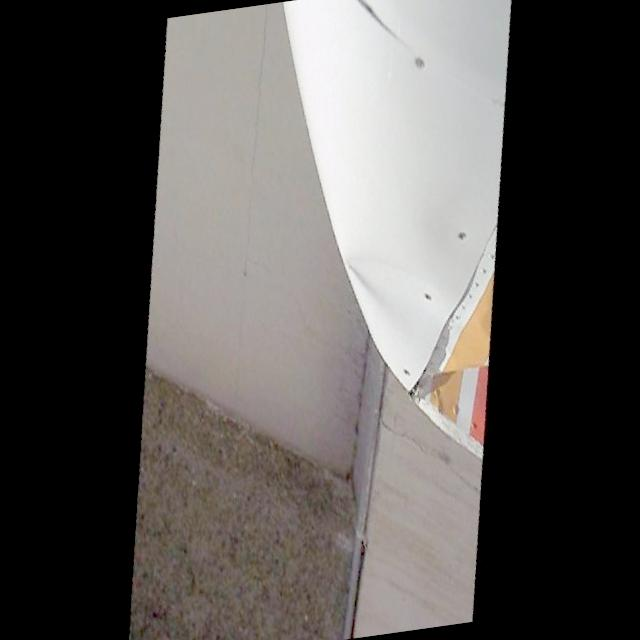dent: (343, 239, 492, 453)
